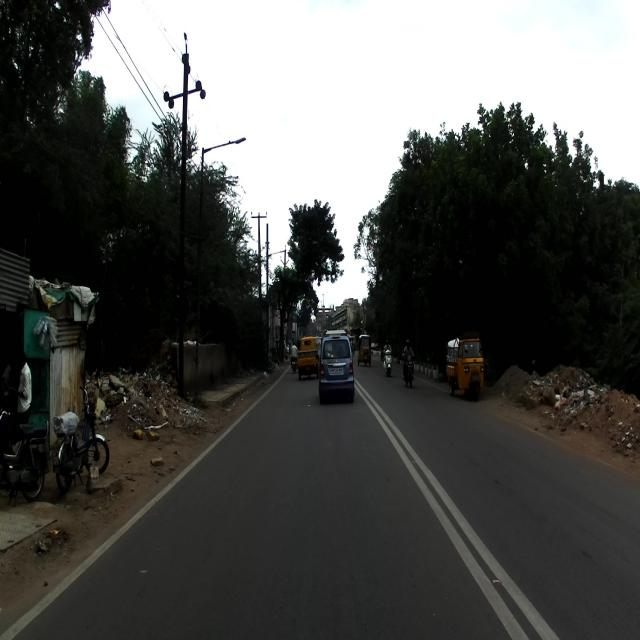Car_Maruti-Suzuki: (317, 329, 357, 406)
